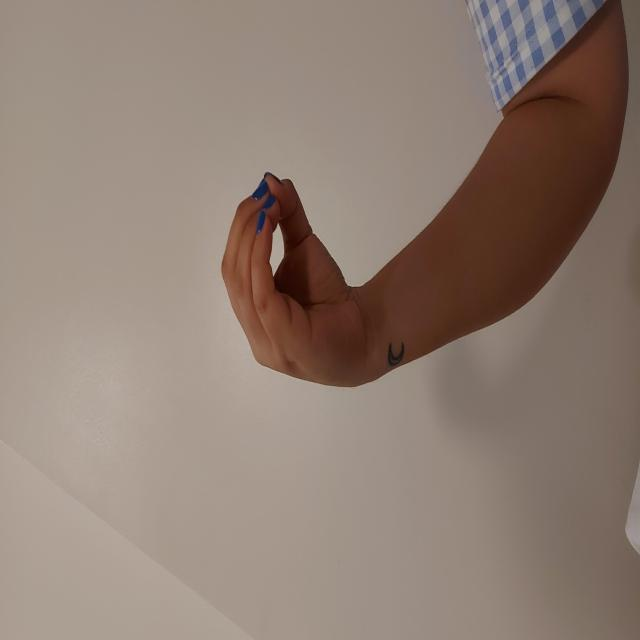O: (250, 220, 471, 368)
